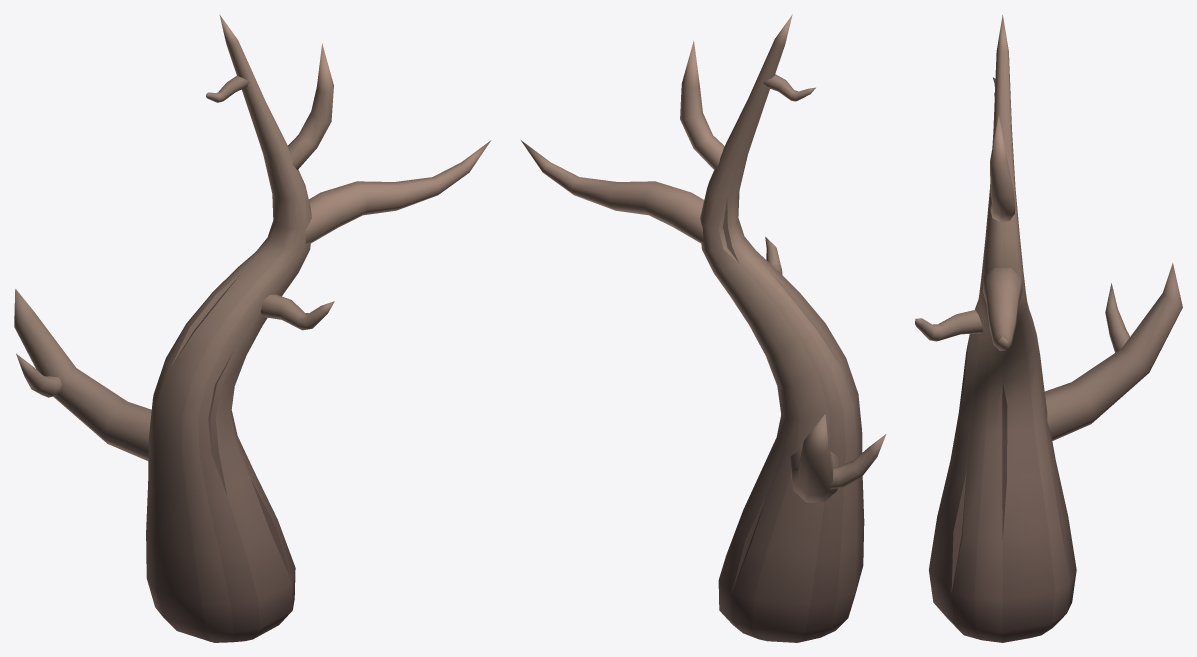
Rendered from Tree_Bare_1_C.glb.
3 views of the same model, side by side, from view 1: azimuth 30°, elevation 25°; view 2: azimuth 150°, elevation 25°; view 3: azimuth 270°, elevation 25° (orthographic).
Parts seen in each view (by area): view 1: Tree_Bare_1_C_Color1; view 2: Tree_Bare_1_C_Color1; view 3: Tree_Bare_1_C_Color1.
Boxes of the visible parts, bbox=[...] form: Tree_Bare_1_C_Color1: bbox=[14, 14, 491, 642]; Tree_Bare_1_C_Color1: bbox=[521, 14, 886, 642]; Tree_Bare_1_C_Color1: bbox=[915, 15, 1182, 642].
Bounding box in the file's own units: 3.74 × 5.26 × 2.07.
1 material, 1 textured.
